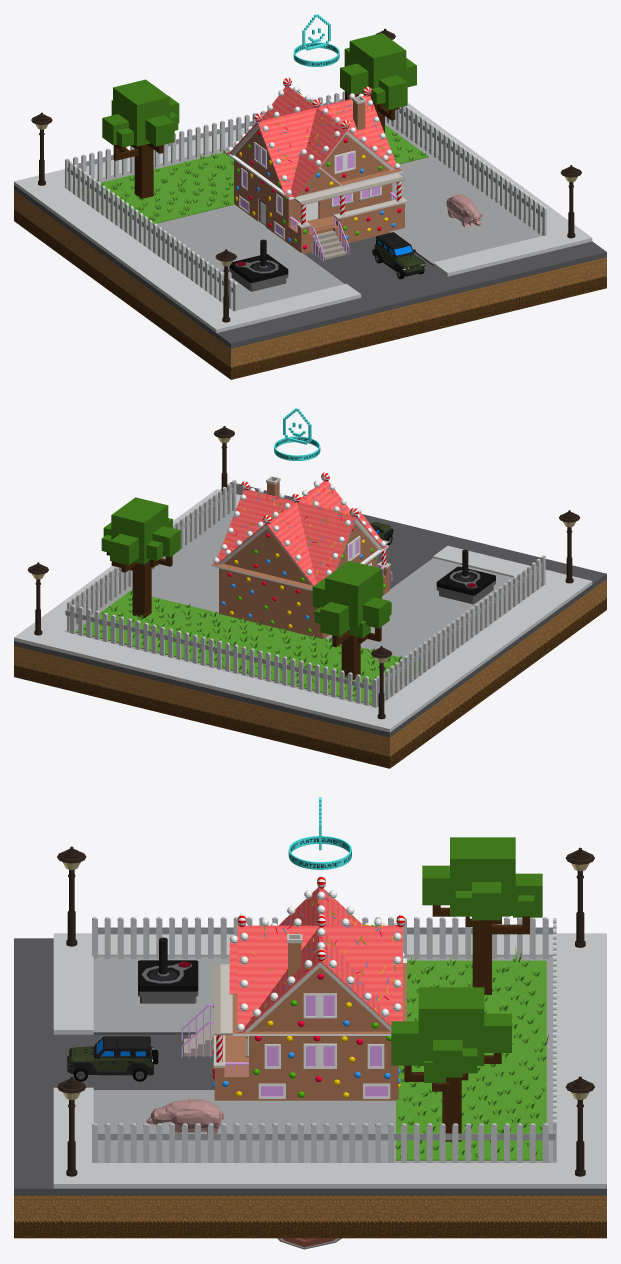
The picture shows the model from 3 angles, top to bottom: view 1: azimuth 30°, elevation 25°; view 2: azimuth 150°, elevation 25°; view 3: azimuth 270°, elevation 25°; orthographic projection. The views are drawn at different scales.
Parts seen in each view (by area): view 1: Cube.004, Cube.1203, OBJRANDOM_JOYSTICK, VEHICLES_JEEP, TYPE_PREMIUM, ANIMAL_HIPOPOTAMO; view 2: Cube.004, Cube.1203, OBJRANDOM_JOYSTICK, TYPE_PREMIUM; view 3: Cube.004, Cube.1203, VEHICLES_JEEP, OBJRANDOM_JOYSTICK, ANIMAL_HIPOPOTAMO, TYPE_PREMIUM.
Boxes of the visible parts, bbox=[...] form: Cube.004: bbox=[14, 28, 606, 379]; Cube.1203: bbox=[225, 77, 407, 261]; OBJRANDOM_JOYSTICK: bbox=[229, 239, 288, 291]; VEHICLES_JEEP: bbox=[372, 232, 425, 279]; TYPE_PREMIUM: bbox=[293, 14, 339, 66]; ANIMAL_HIPOPOTAMO: bbox=[446, 194, 482, 227]; Cube.004: bbox=[14, 426, 606, 768]; Cube.1203: bbox=[211, 472, 392, 638]; OBJRANDOM_JOYSTICK: bbox=[436, 549, 495, 604]; TYPE_PREMIUM: bbox=[274, 408, 320, 460]; Cube.004: bbox=[14, 837, 606, 1238]; Cube.1203: bbox=[181, 876, 406, 1100]; VEHICLES_JEEP: bbox=[67, 1036, 158, 1081]; OBJRANDOM_JOYSTICK: bbox=[138, 937, 198, 1003]; ANIMAL_HIPOPOTAMO: bbox=[146, 1099, 223, 1133]; TYPE_PREMIUM: bbox=[288, 797, 351, 869].
Size of the model in its own units: 4000 by 3183 by 4000.
Materials: 50 (5 with a texture image).
